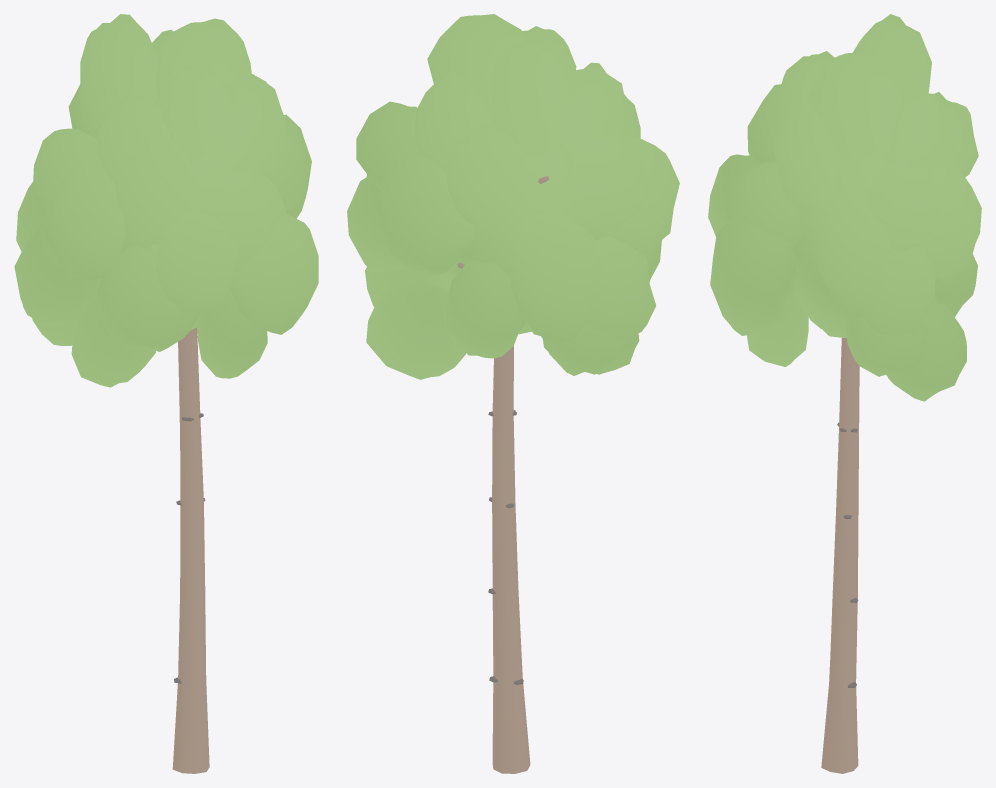
The model's file is Blender_Aspen_3.glb.
The picture shows the model from 3 angles, left to right: view 1: azimuth 30°, elevation 25°; view 2: azimuth 150°, elevation 25°; view 3: azimuth 270°, elevation 25°; orthographic projection. The views are drawn at different scales.
Parts seen in each view (by area): view 1: Blender_Aspen_3; view 2: Blender_Aspen_3; view 3: Blender_Aspen_3.
Boxes of the visible parts, <box> form: Blender_Aspen_3: <box>14,14,318,773</box>; Blender_Aspen_3: <box>347,14,679,773</box>; Blender_Aspen_3: <box>708,14,981,773</box>.
Bounding box in the file's own units: 6.72 × 16.97 × 5.83.
